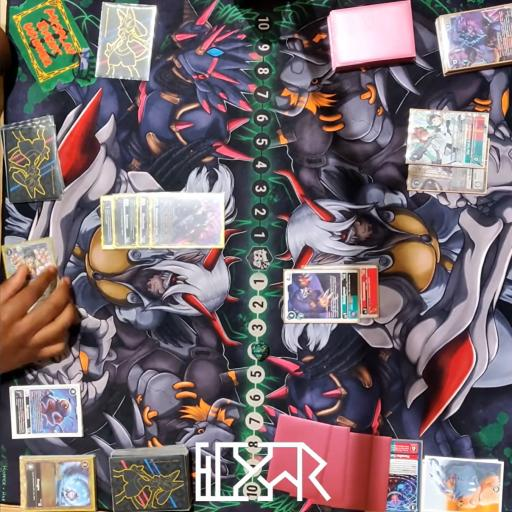card: (432, 1, 512, 71), (403, 109, 491, 167), (150, 192, 228, 255), (0, 231, 62, 305), (8, 383, 84, 443), (279, 268, 358, 324), (18, 456, 96, 512), (381, 439, 423, 512), (403, 164, 492, 196), (359, 263, 382, 319), (136, 190, 154, 251), (102, 190, 116, 253), (113, 190, 126, 252), (124, 190, 136, 252)
